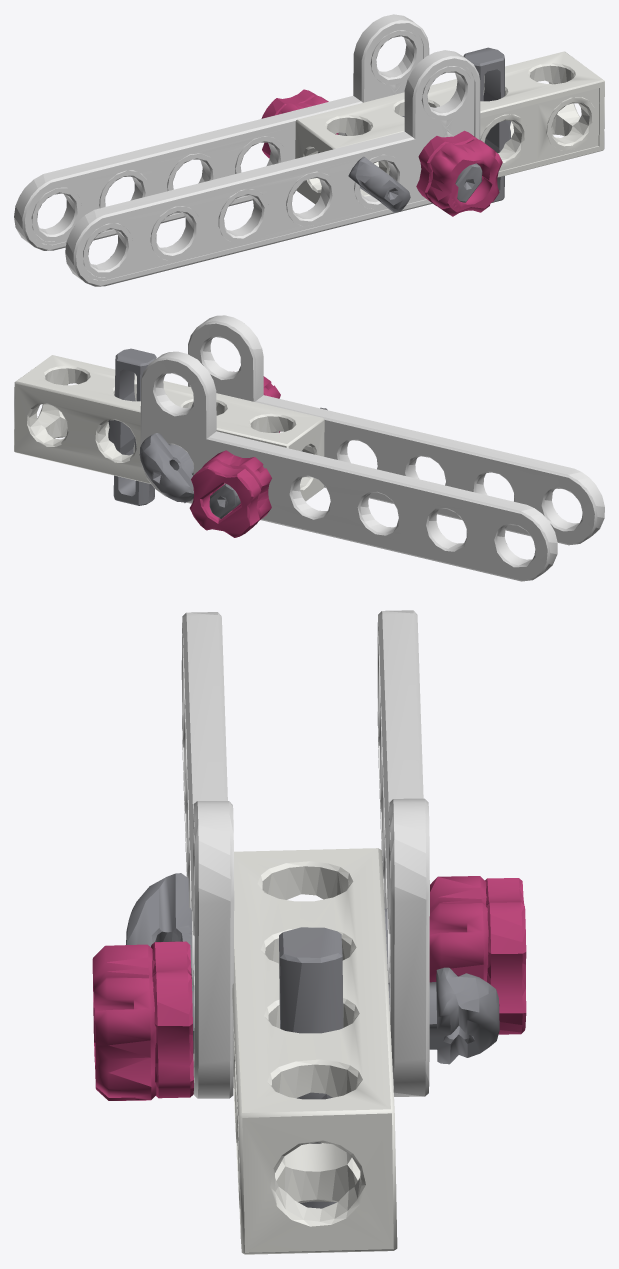
Rendered from state4.fbx.
3 renders of one model, top to bottom at view 1: azimuth 30°, elevation 25°; view 2: azimuth 150°, elevation 25°; view 3: azimuth 270°, elevation 25°, orthographic. The views are drawn at different scales.
Parts seen in each view (by area): view 1: Pin SPP INR LCT BDR BU01.00x00.50 - SPN-PIN-0094 (stemfie.or; view 2: Pin SPP INR LCT BDR BU01.00x00.50 - SPN-PIN-0094 (stemfie.or; view 3: Pin SPP INR LCT BDR BU01.00x00.50 - SPN-PIN-0094 (stemfie.or.
Part boxes in pixels (x1,y1,x2,y2): Pin SPP INR LCT BDR BU01.00x00.50 - SPN-PIN-0094 (stemfie.or: [14, 14, 604, 286]; Pin SPP INR LCT BDR BU01.00x00.50 - SPN-PIN-0094 (stemfie.or: [14, 315, 604, 581]; Pin SPP INR LCT BDR BU01.00x00.50 - SPN-PIN-0094 (stemfie.or: [92, 610, 526, 1254].
Size of the model in its own units: 10011 by 3123 by 3466.
